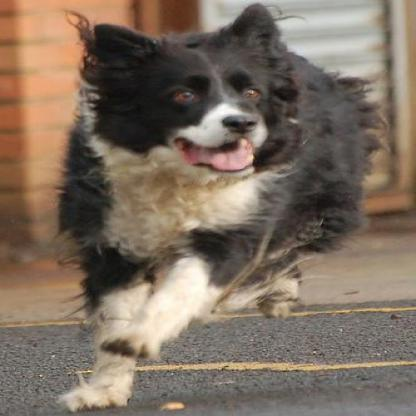Border_collie: (46, 1, 385, 413)
